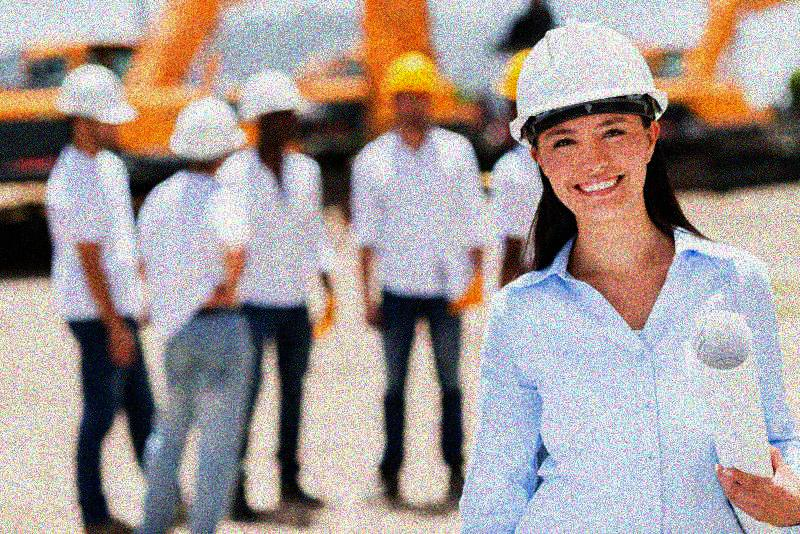helmet: (511, 17, 671, 224), (53, 63, 134, 153), (168, 97, 246, 177), (242, 68, 316, 148), (382, 47, 443, 128)
